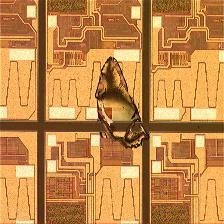PARTICLE: (93, 54, 153, 153)
